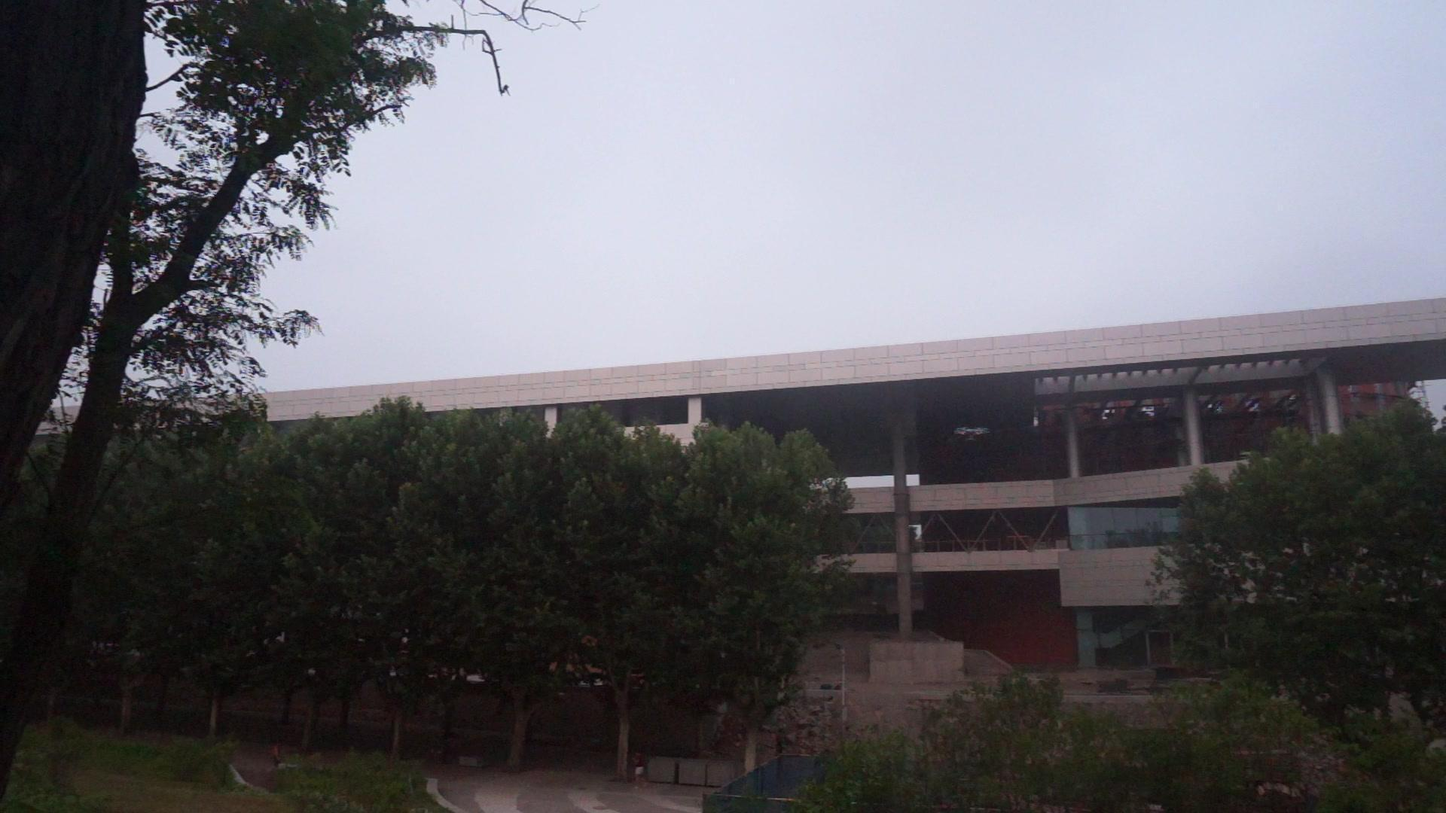UAV: (956, 428, 990, 441)
